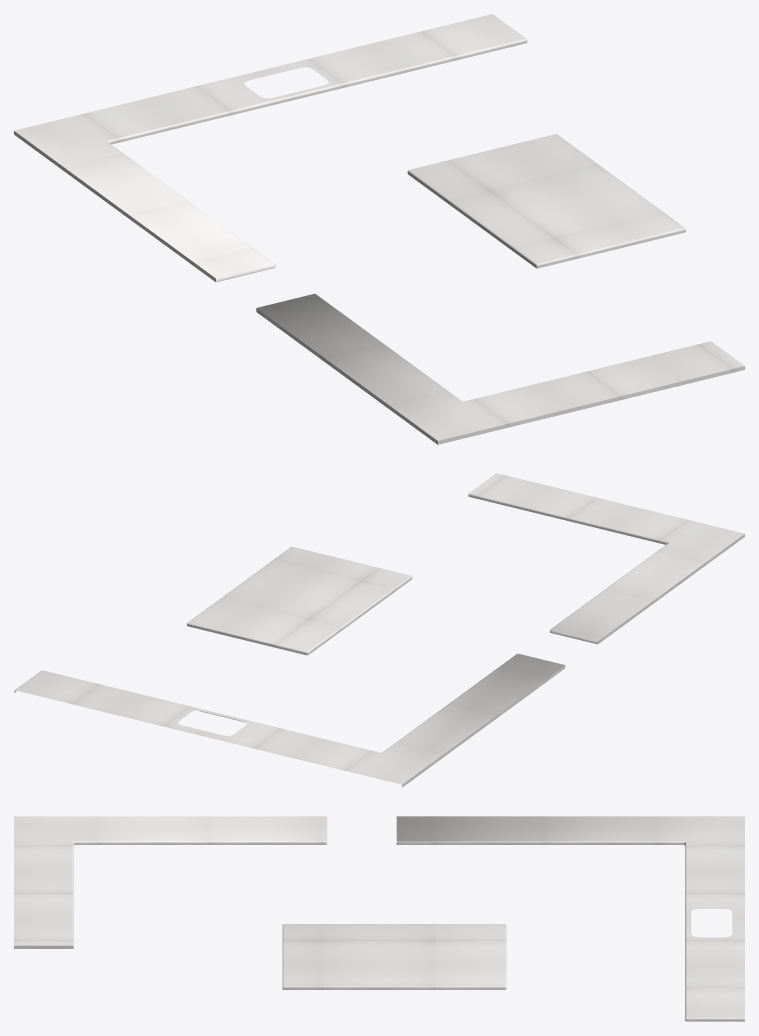
Rendered from Countertops_QuartzArcticWhite.glb.
3 views of the same model, one above another, from view 1: azimuth 30°, elevation 25°; view 2: azimuth 150°, elevation 25°; view 3: azimuth 270°, elevation 25° (orthographic). The views are drawn at different scales.
Parts seen in each view (by area): view 1: Countertops_Quartz Arctic White; view 2: Countertops_Quartz Arctic White; view 3: Countertops_Quartz Arctic White.
Boxes of the visible parts, x1,y1,x2,y2 form: Countertops_Quartz Arctic White: [14, 14, 744, 444]; Countertops_Quartz Arctic White: [14, 473, 744, 787]; Countertops_Quartz Arctic White: [14, 816, 744, 1021].
Size of the model in its own units: 6.4 by 0.05 by 9.8.
Materials: 1 (1 with a texture image).
